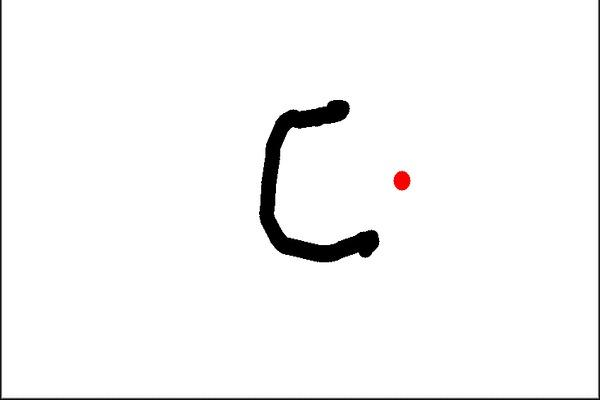C: (254, 94, 382, 263)
